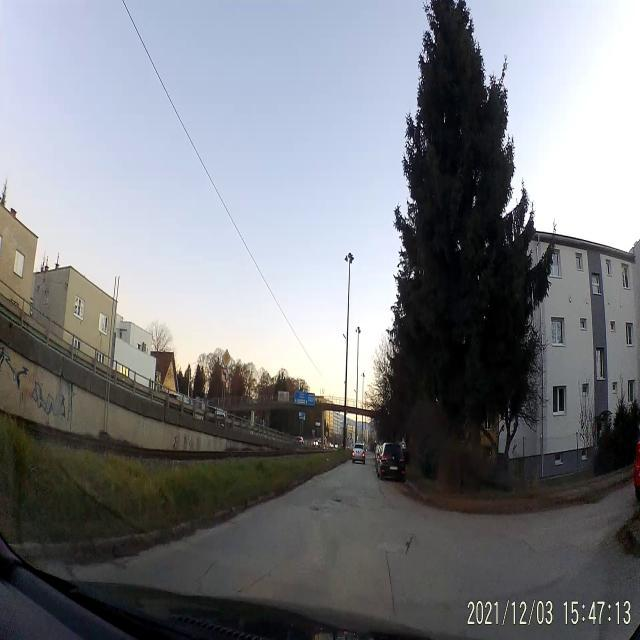Pothole: (404, 532, 414, 560), (330, 492, 342, 507), (308, 503, 320, 515)
